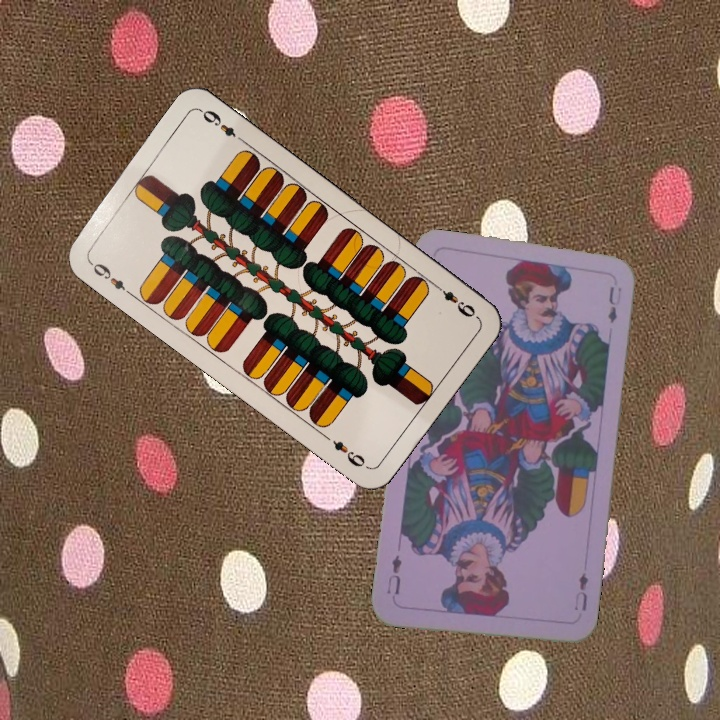E9: (85, 257, 135, 299), (430, 279, 478, 320)
EU: (570, 569, 590, 614)
